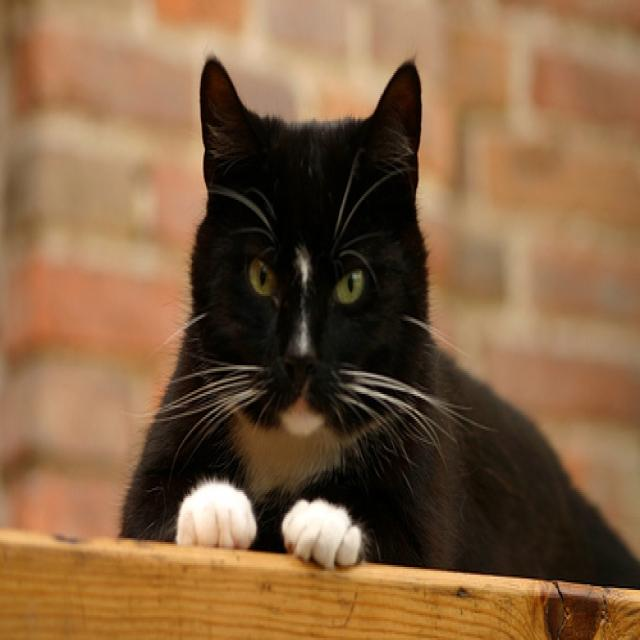cat: (118, 51, 640, 591)
